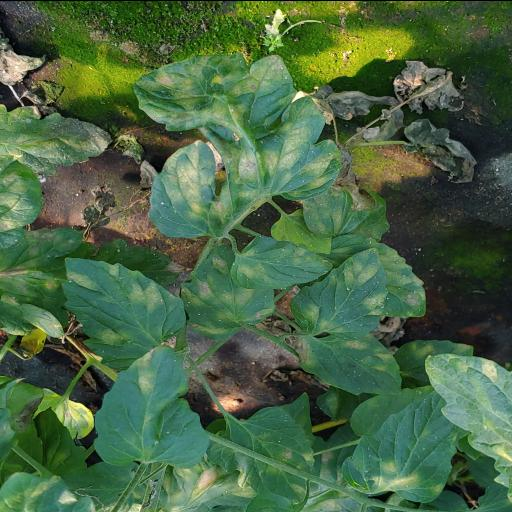disease_tomato: (132, 50, 342, 238), (60, 256, 186, 372), (92, 344, 209, 468), (340, 390, 460, 502), (289, 246, 389, 340), (182, 242, 276, 338), (296, 334, 402, 394), (228, 235, 332, 289)
